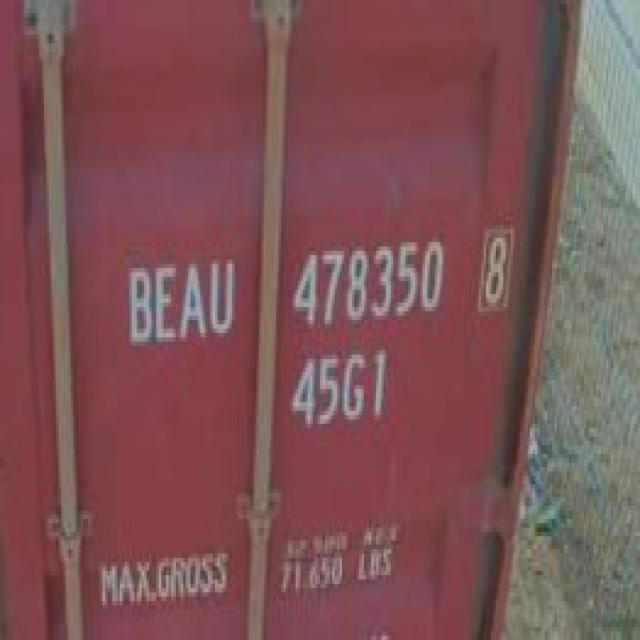dv: (479, 226, 512, 315)
owner: (123, 256, 239, 352)
serial: (289, 240, 449, 334)
size: (285, 344, 392, 434)
